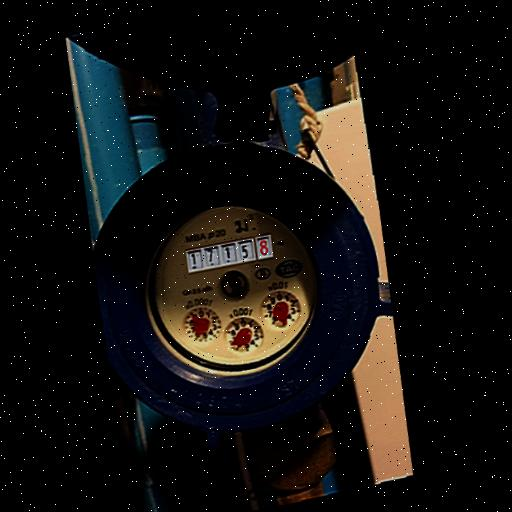1: (186, 251, 203, 271), (221, 244, 238, 264)
5: (238, 241, 254, 261)
7: (204, 246, 219, 266)
8: (256, 238, 271, 258)
border_water_meter_number: (183, 234, 275, 273)
